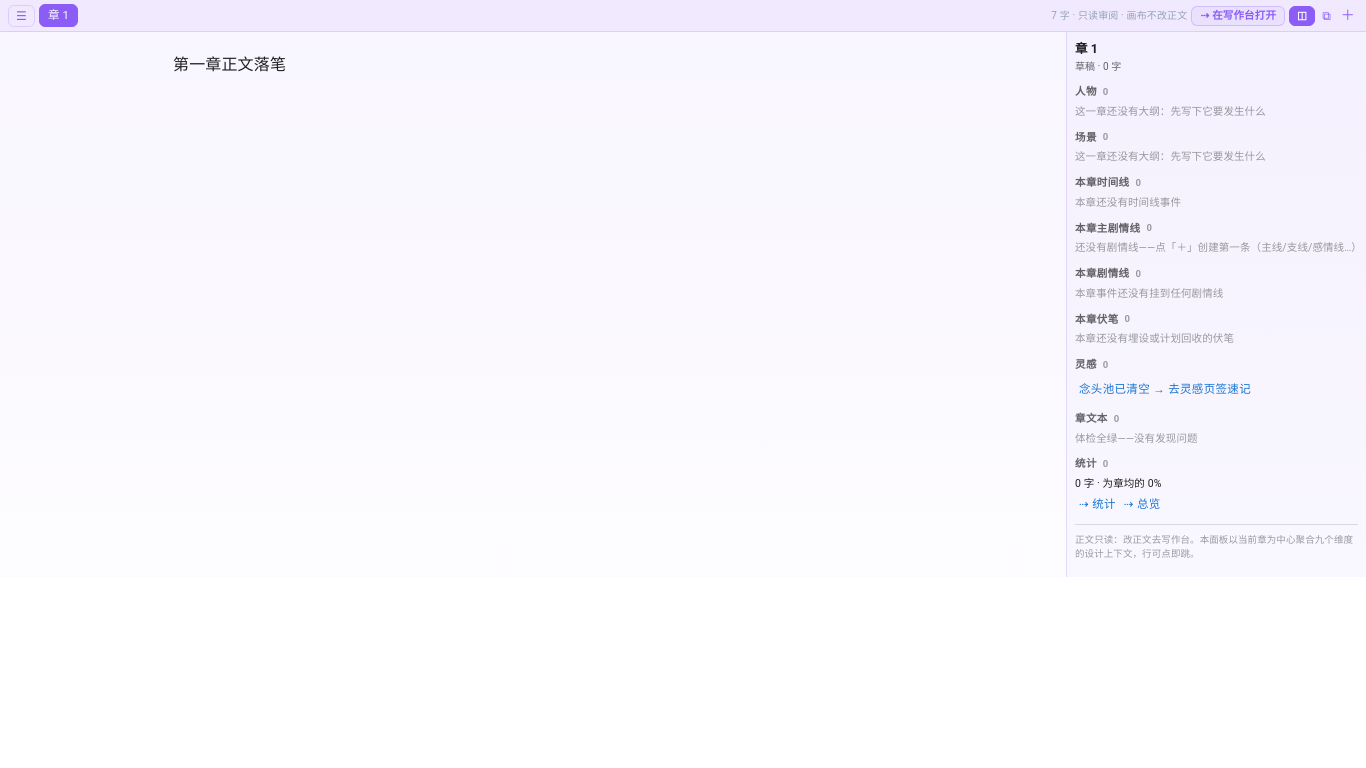
writingDocs 目录点选 → 真实正文装载 › 再点回章 1：正文回到章 1 内容（去重置语义、随时可回）
This screenshot has width=1366, height=768.
Click the text "☰" at (21, 16), box [8,5,35,27]
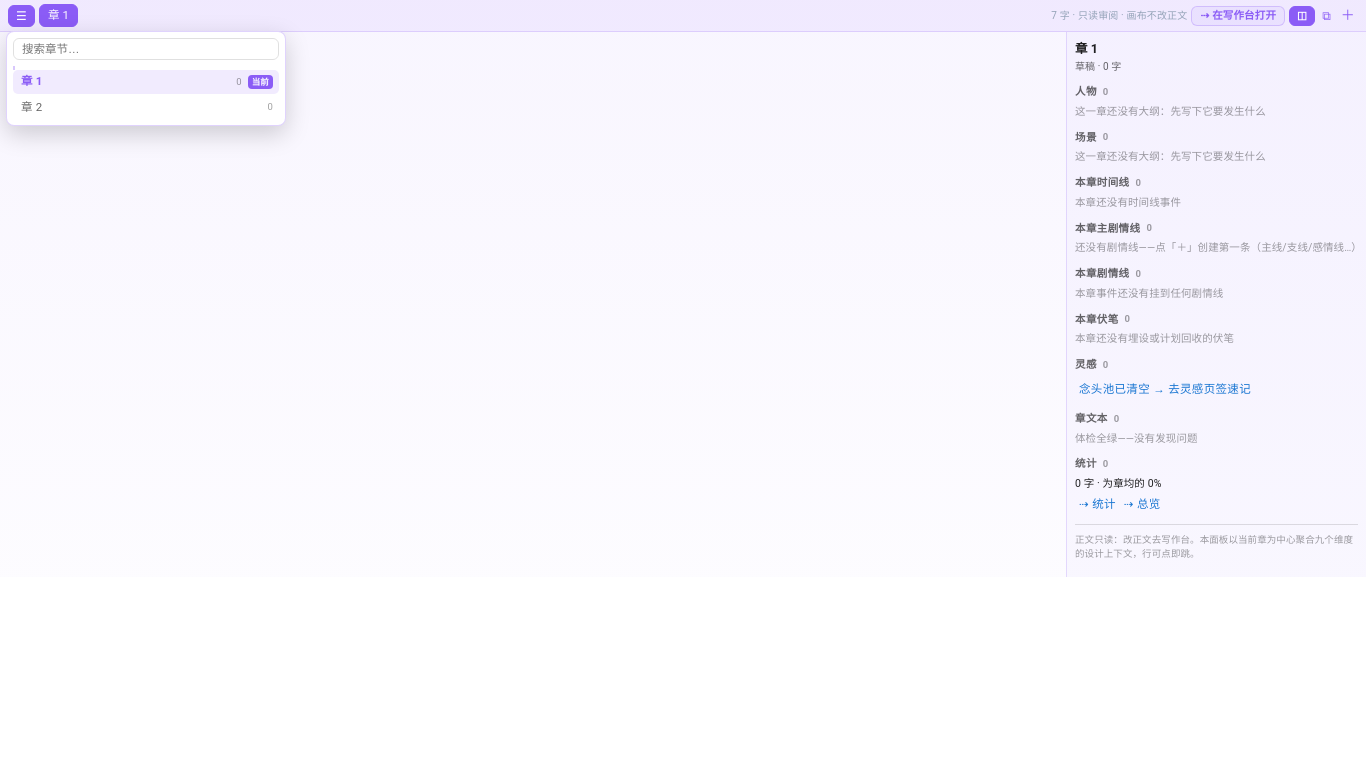
Click the element showing "章 2 0" at (32, 106), box [13,96,279,119]
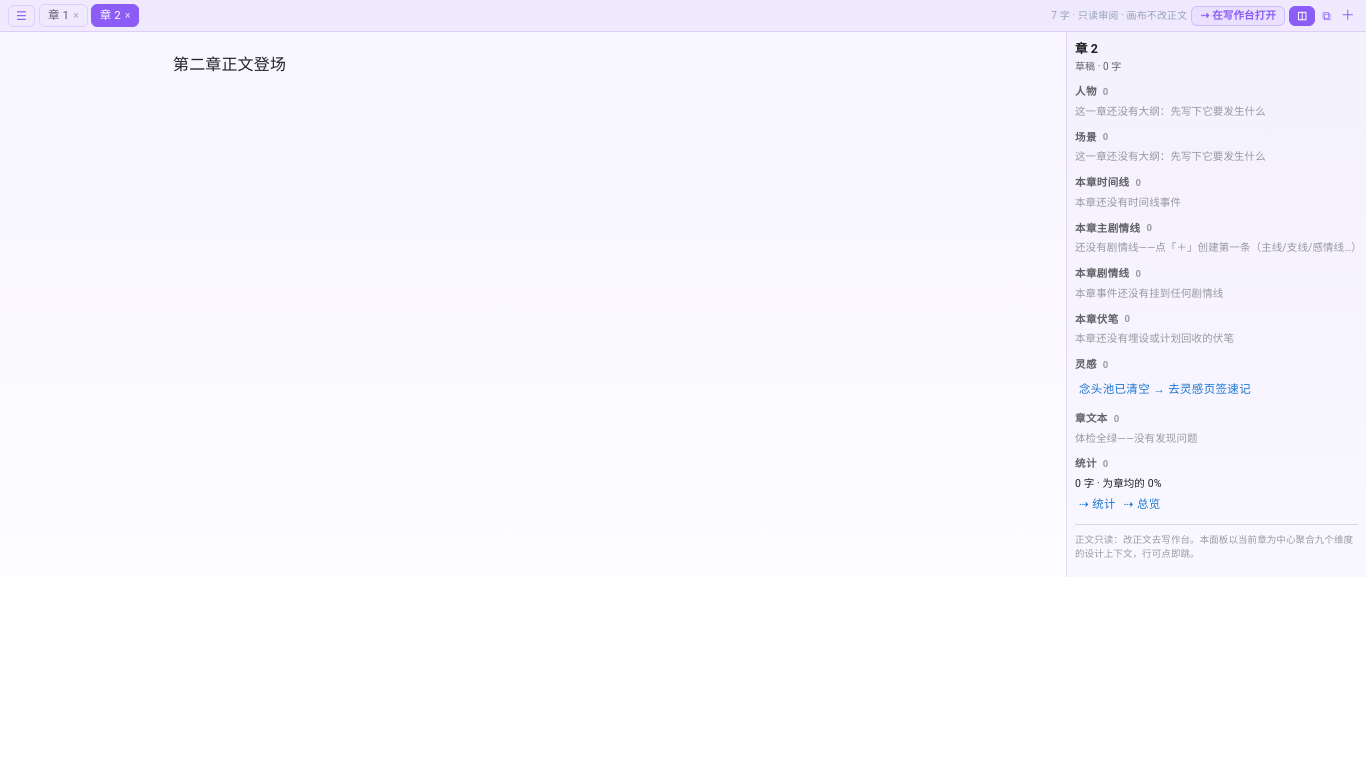
Expected: the text "第二章正文登场" is shown, [173,55,286,74]
Click the text "☰" at (21, 16), box [8,5,35,27]
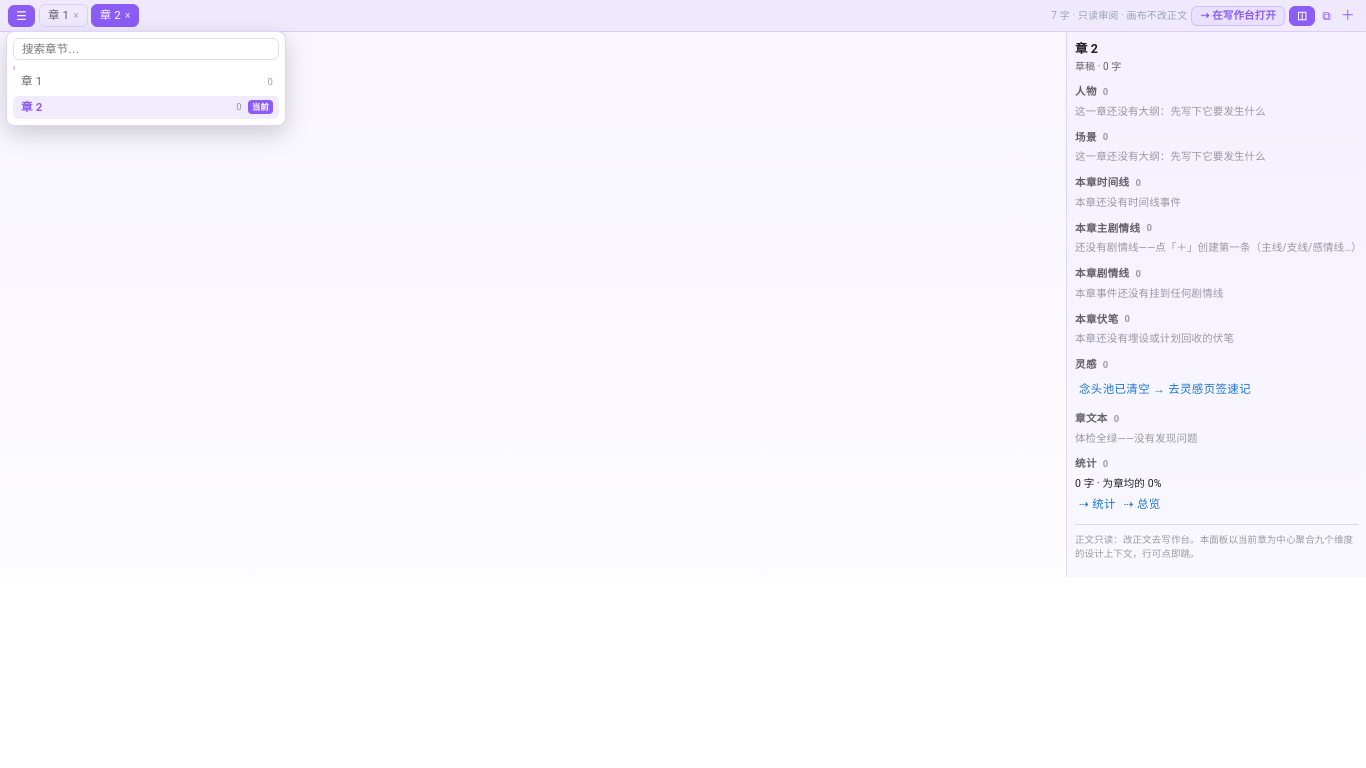
Click the element showing "章 1 0" at (32, 81), box [13,70,279,94]
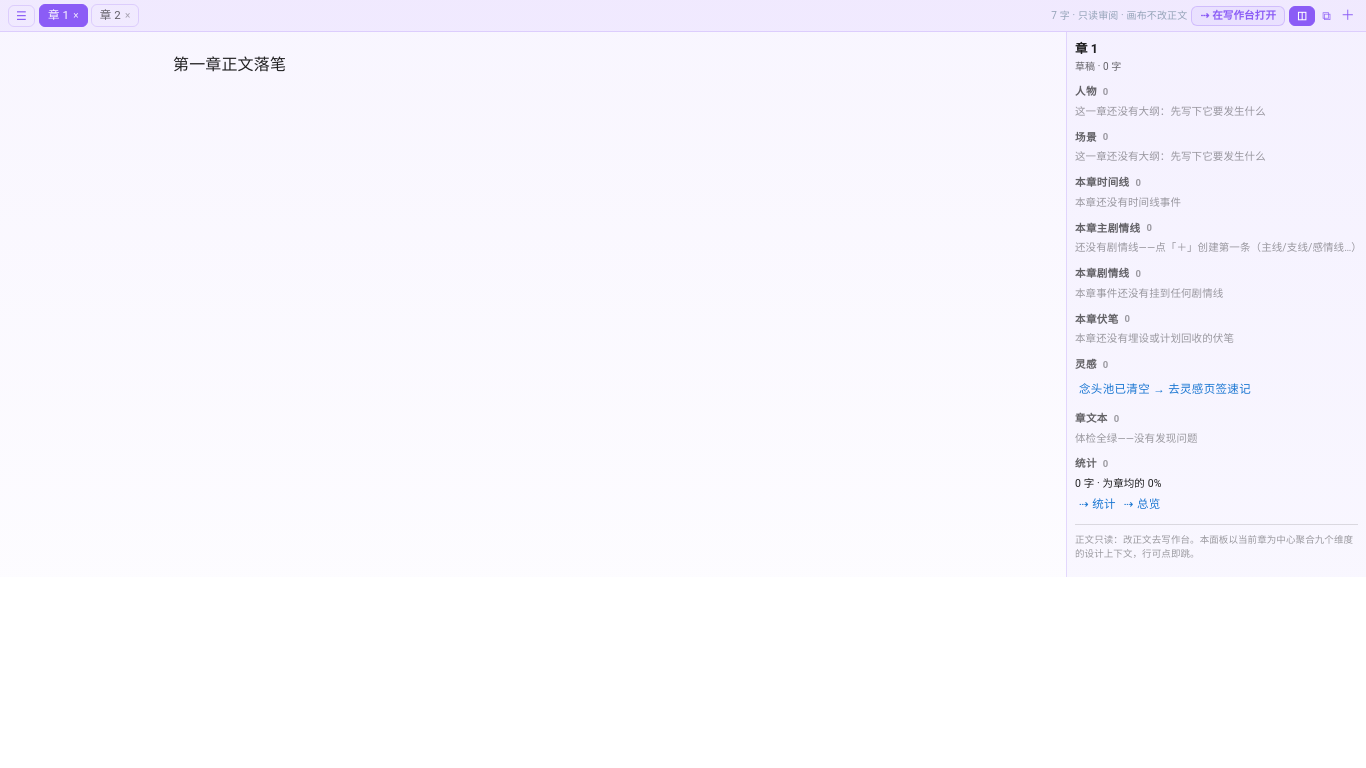
Expected: the text "第一章正文落笔" is shown, [173,55,286,74]
